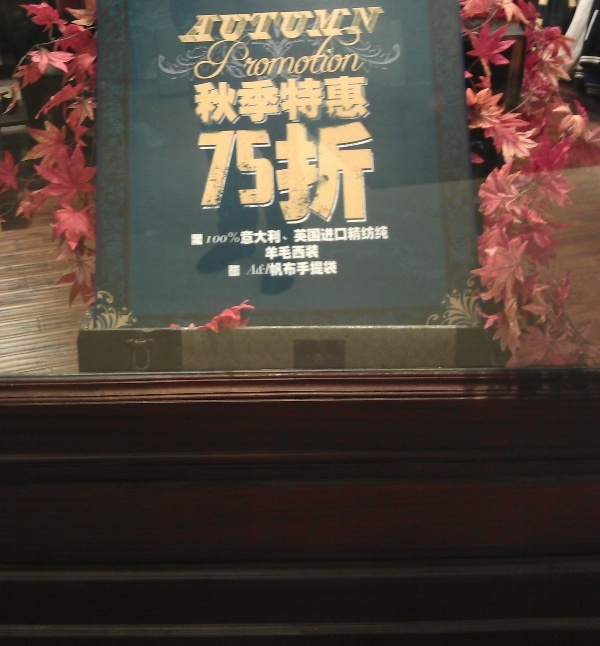text: (209, 118, 224, 232), (225, 118, 240, 232), (241, 118, 256, 232), (257, 118, 272, 232), (273, 118, 288, 232), (289, 118, 304, 232), (305, 118, 320, 232), (321, 118, 336, 232), (337, 118, 352, 232), (353, 118, 368, 232), (195, 118, 208, 232), (369, 118, 382, 232), (193, 27, 208, 82), (209, 27, 224, 82), (225, 27, 240, 82), (241, 27, 256, 82), (257, 27, 272, 82), (273, 27, 288, 82), (289, 27, 304, 82), (305, 27, 320, 82), (321, 27, 336, 82), (337, 27, 352, 82), (193, 73, 208, 127), (209, 73, 224, 127), (225, 73, 240, 127), (241, 73, 256, 127), (257, 73, 272, 127), (273, 73, 288, 127), (289, 73, 304, 127), (305, 73, 320, 127), (321, 73, 336, 127), (337, 73, 352, 127), (353, 73, 368, 127), (177, 7, 192, 44), (193, 7, 208, 44), (209, 7, 224, 44), (225, 7, 240, 44), (241, 7, 256, 44), (257, 7, 272, 44), (273, 7, 288, 44), (289, 7, 304, 44), (305, 7, 320, 44), (321, 7, 336, 44), (337, 7, 352, 44), (353, 7, 368, 44), (369, 7, 384, 44), (353, 27, 363, 82), (209, 225, 224, 248), (225, 225, 240, 248), (241, 225, 256, 248), (257, 225, 272, 248), (273, 225, 288, 248), (289, 225, 304, 248), (305, 225, 320, 248), (321, 225, 336, 248), (337, 225, 352, 248), (353, 225, 368, 248), (369, 225, 384, 248), (305, 243, 321, 262), (273, 243, 288, 262), (289, 243, 304, 262), (257, 261, 272, 278), (273, 261, 288, 278), (289, 261, 304, 278), (305, 261, 320, 278), (321, 261, 336, 278), (245, 261, 256, 278), (265, 243, 272, 262), (203, 225, 208, 248), (190, 27, 192, 82), (369, 73, 371, 127), (385, 225, 388, 248), (385, 7, 386, 44), (337, 261, 339, 278)
